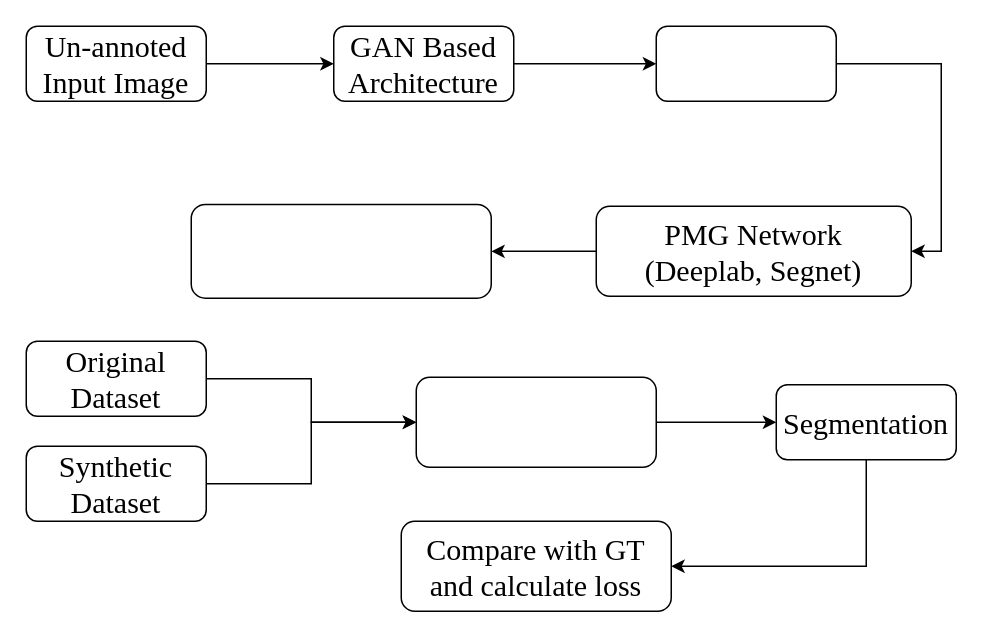
This 983x638 diagram has some shape labels left out. The centre of each missing label's shape, as x and y in pixels:
"Ground Truth for un-annoted dataset" goes at (340,250).
"Improved Unet Architecture" goes at (535,421).
"Synthetic Image" goes at (745,63).
